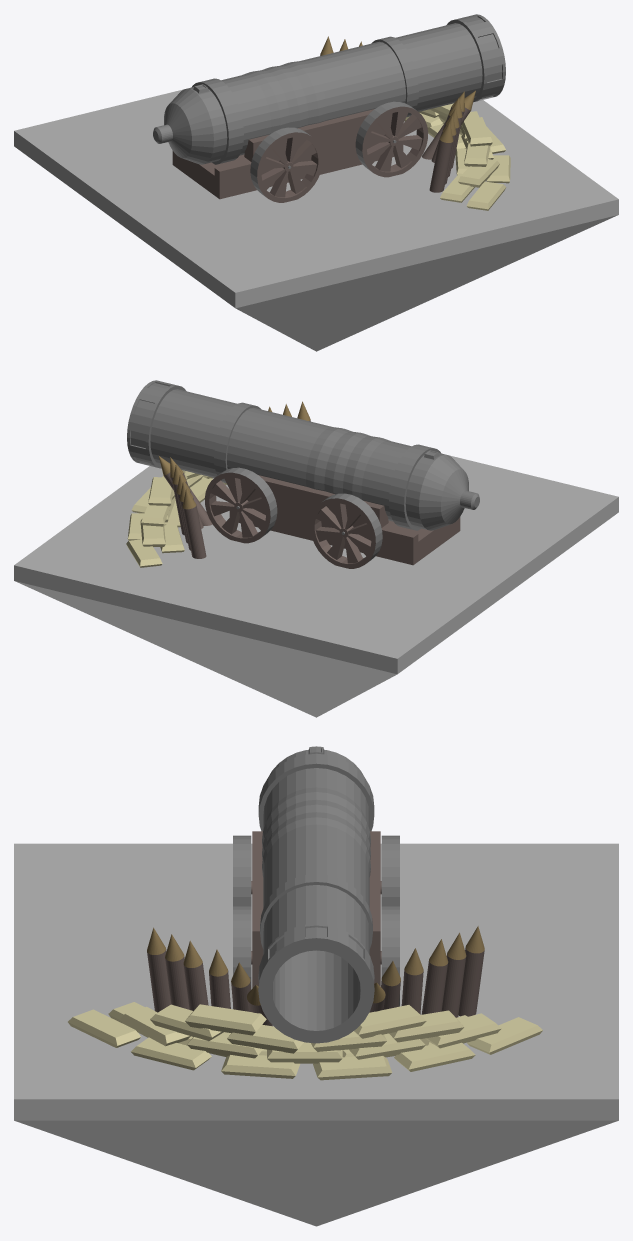
Rendered from Building Cannon T3.fbx.
3 views of the same model, one above another, from view 1: azimuth 30°, elevation 25°; view 2: azimuth 150°, elevation 25°; view 3: azimuth 270°, elevation 25° (orthographic). The views are drawn at different scales.
Visible parts, largest first — view 1: Cannon T3; view 2: Cannon T3; view 3: Cannon T3.
Part boxes in pixels (<box>): Cannon T3: <box>14,14,618,351</box>; Cannon T3: <box>14,380,618,717</box>; Cannon T3: <box>14,746,618,1226</box>.
Size of the model in its own units: 1599 by 1168 by 1599.
